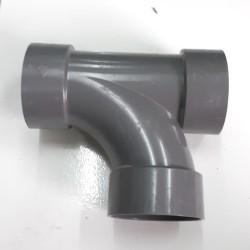PVC: (21, 42, 229, 221)
